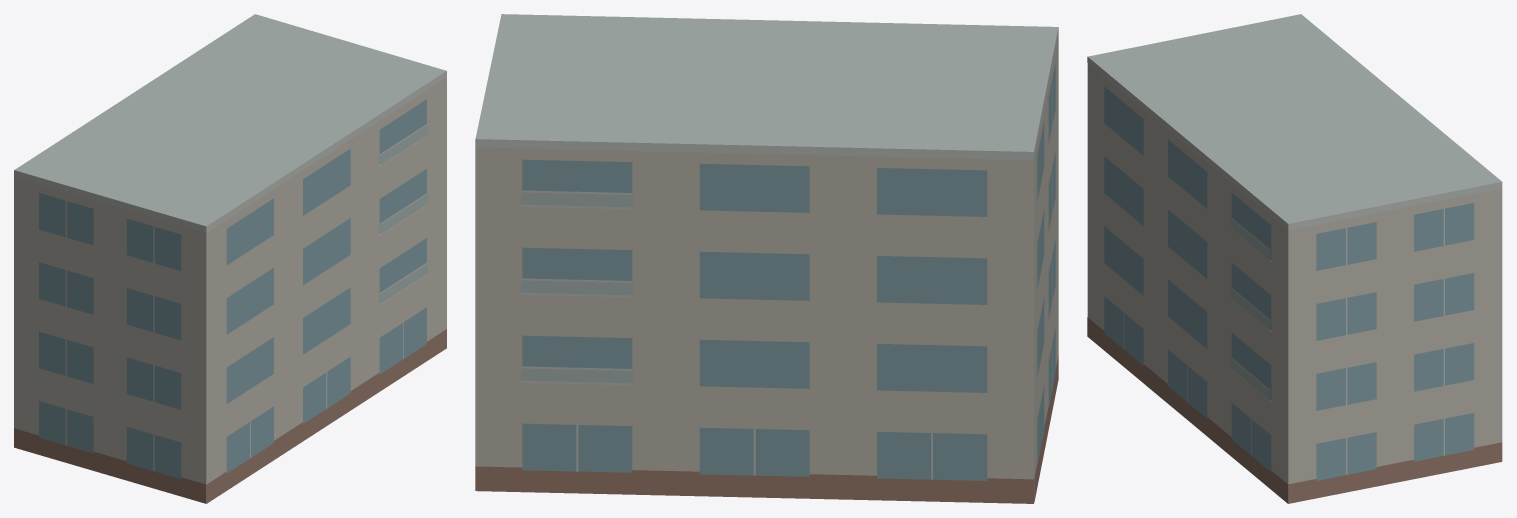
Rendered from survey-upis-33030662.glb.
The picture shows the model from 3 angles, left to right: view 1: azimuth 30°, elevation 25°; view 2: azimuth 150°, elevation 25°; view 3: azimuth 270°, elevation 25°; orthographic projection. The views are drawn at different scales.
Parts seen in each view (by area): view 1: survey-upis-33030662.tmp; view 2: survey-upis-33030662.tmp; view 3: survey-upis-33030662.tmp.
Boxes of the visible parts, box(x1,y1,x2,y2) form: survey-upis-33030662.tmp: box(14, 14, 446, 503); survey-upis-33030662.tmp: box(475, 14, 1058, 503); survey-upis-33030662.tmp: box(1087, 14, 1502, 503).
Bounding box in the file's own units: 16.73 × 10.4 × 13.97.
